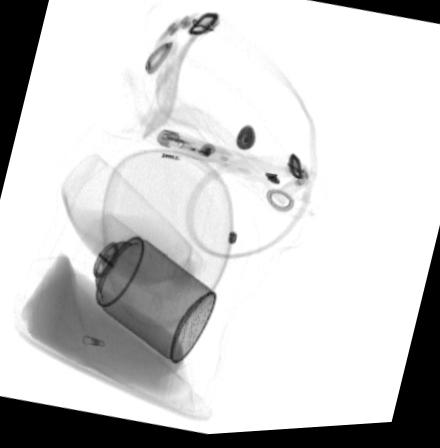Lighter: (156, 130, 234, 170)
Sprayer: (67, 215, 215, 365)
